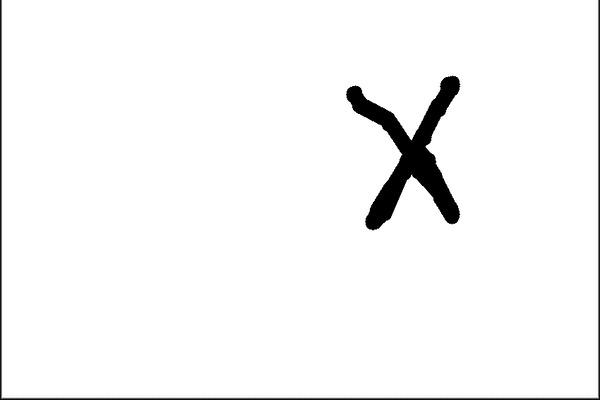X: (322, 55, 479, 247)
